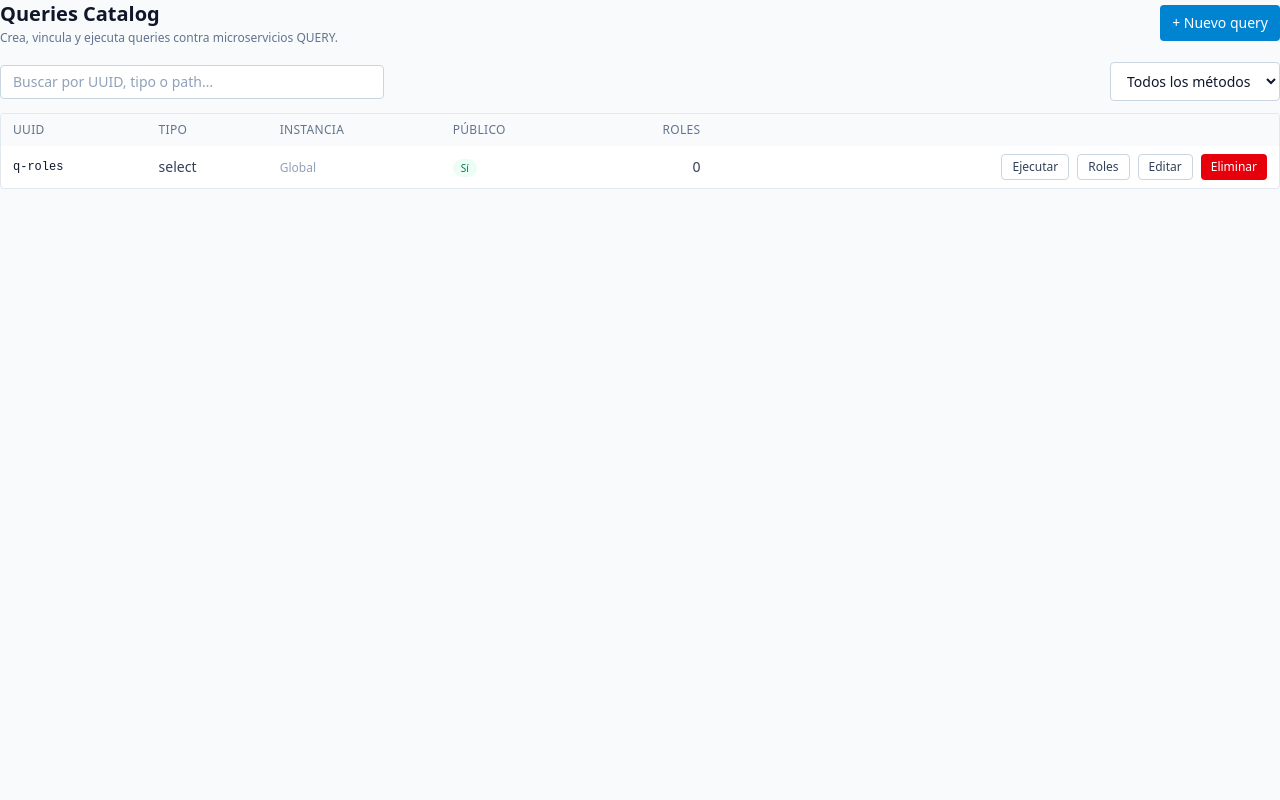
Test: QueriesAdminPage › opening the Roles modal lists the role-binding checkboxes from /roles/checked
Click the button with test id "bind-roles-5" at (1103, 167), box [1077,154,1130,180]
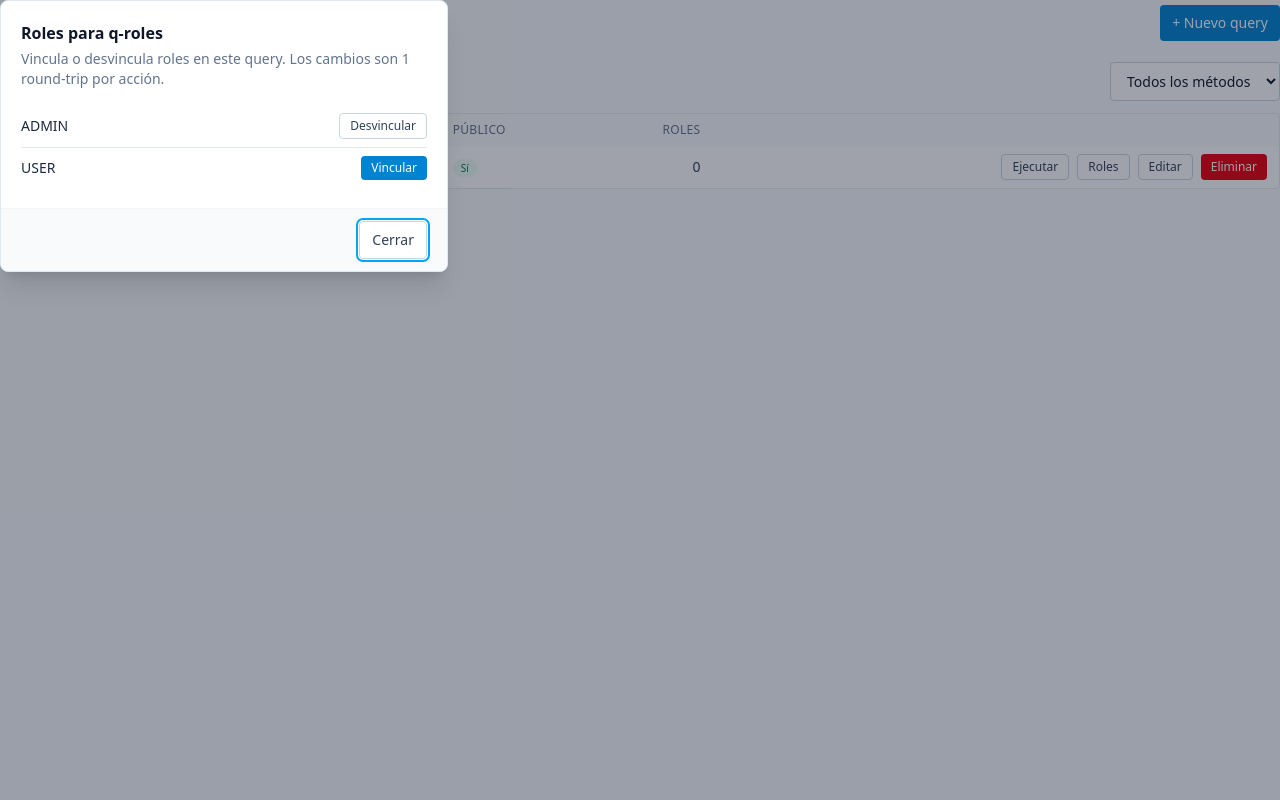
Result: the text "ADMIN" is shown at [21,116,68,136]
Result: the text "USER" is shown at [21,158,55,178]
Result: the button with test id "role-toggle-10" reads "Desvincular" at [339,113,427,139]
